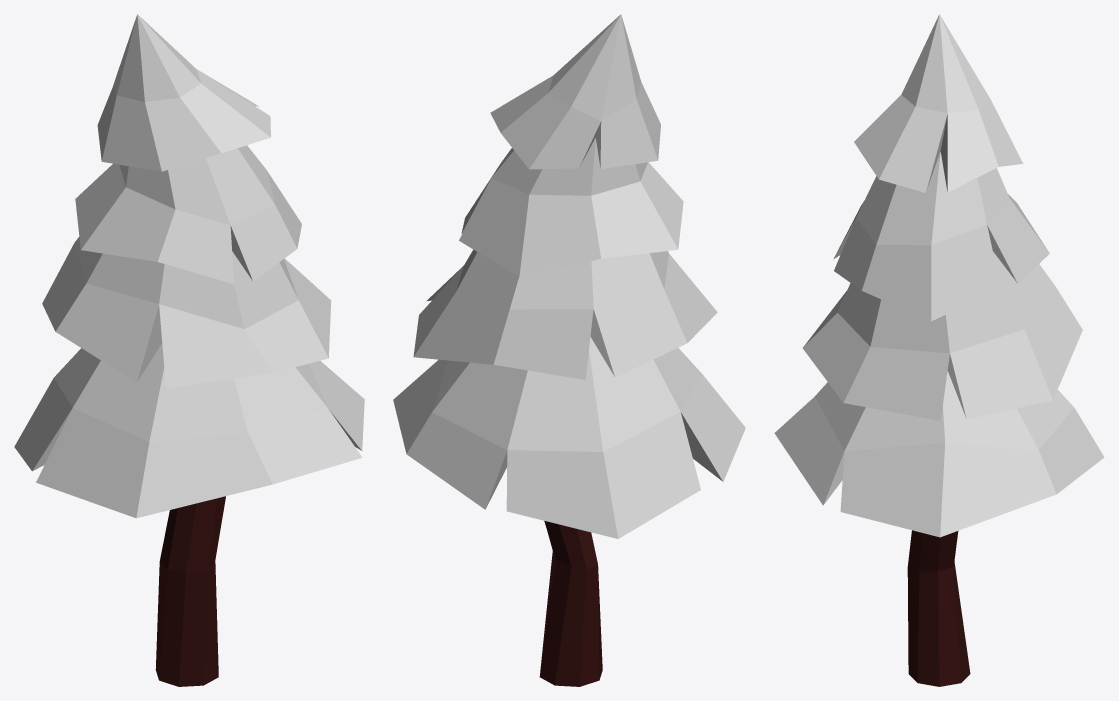
Rendered from mediumTree.glb.
3 views of the same model, side by side, from view 1: azimuth 30°, elevation 25°; view 2: azimuth 150°, elevation 25°; view 3: azimuth 270°, elevation 25° (orthographic). The views are drawn at different scales.
Visible parts, largest first — view 1: conifer5_Cylinder.005; view 2: conifer5_Cylinder.005; view 3: conifer5_Cylinder.005.
Part boxes in pixels (bbox=[...]): conifer5_Cylinder.005: bbox=[14, 14, 364, 686]; conifer5_Cylinder.005: bbox=[393, 14, 745, 686]; conifer5_Cylinder.005: bbox=[774, 14, 1104, 686].
Bounding box in the file's own units: 7.3 × 14.22 × 6.68.
